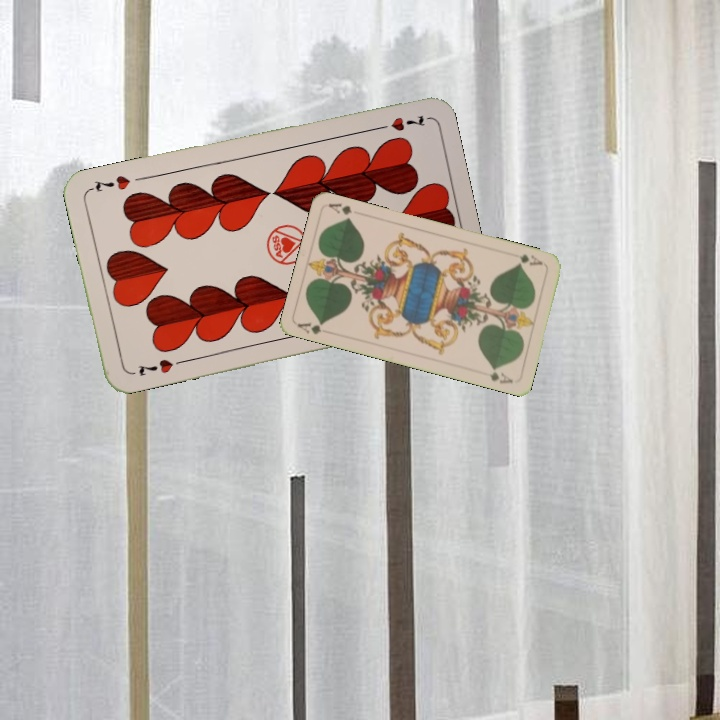GA: (294, 318, 326, 337), (513, 250, 545, 268)
H7: (371, 111, 430, 134), (133, 355, 175, 379)
